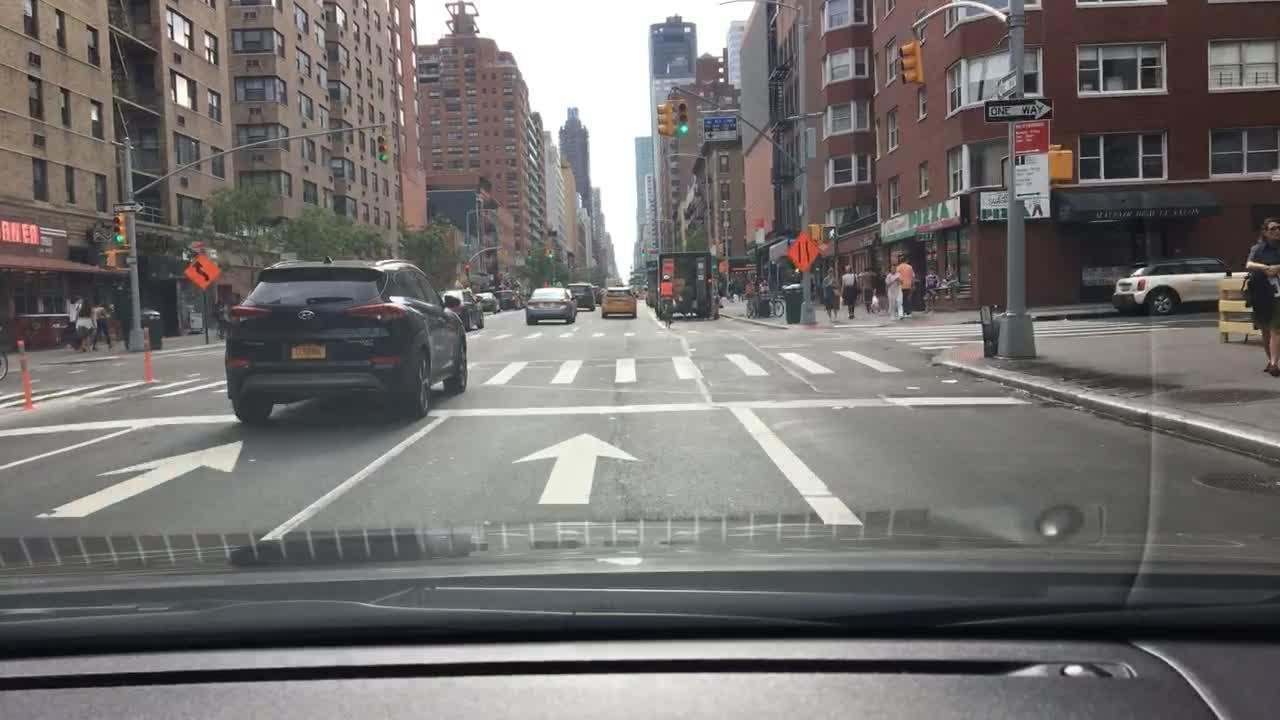Hyundai: (294, 307, 319, 323)
